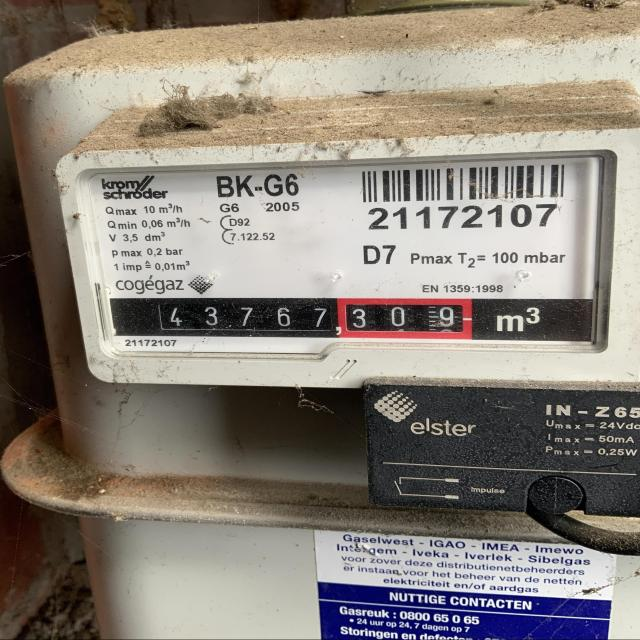gaz_meter: (63, 154, 637, 384)
indication: (148, 293, 473, 341)
